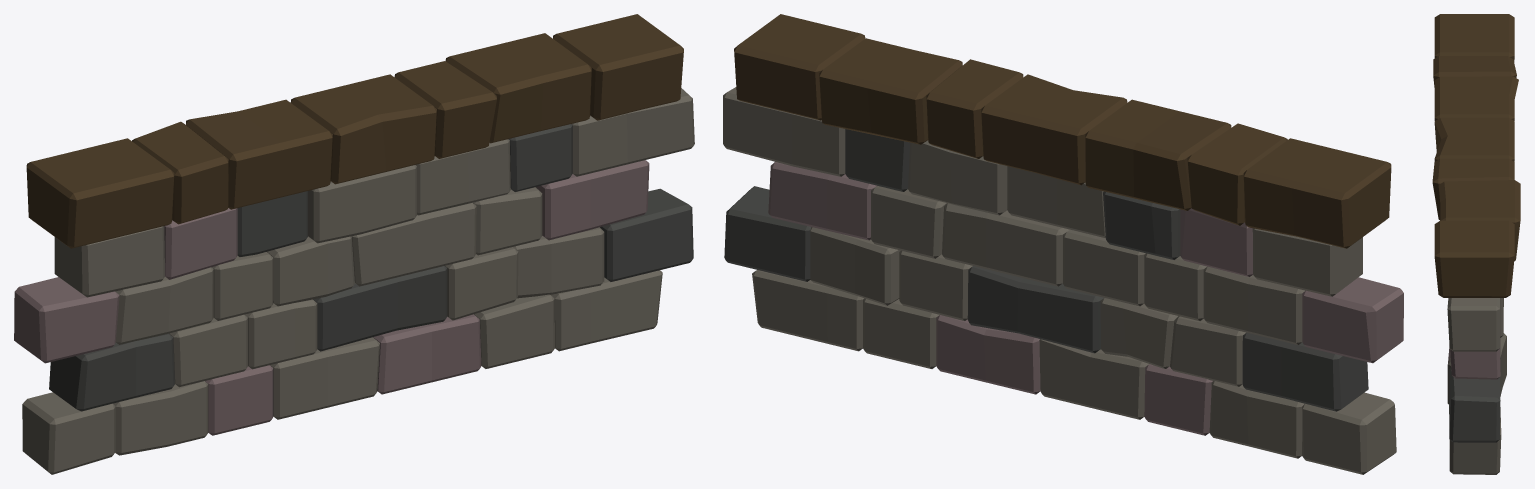
File: BrickWall.fbx
3 renders of one model, left to right at view 1: azimuth 30°, elevation 25°; view 2: azimuth 150°, elevation 25°; view 3: azimuth 270°, elevation 25°, orthographic. The views are drawn at different scales.
Visible parts, largest first — view 1: Cube.030, Cube.028, Cube.032, Cube.033, Cube.034, Cube.009, Cube.019, Cube.023, Cube.007, Cube.020, Cube.002, Cube.014 (+23 smaller); view 2: Cube.030, Cube.028, Cube.033, Cube.032, Cube.034, Cube.009, Cube.023, Cube.019, Cube.007, Cube.020, Cube.014, Cube.002 (+23 smaller); view 3: Cube.034, Cube.033, Cube.028, Cube.030, Cube.032, Cube.013, Cube.020, Cube.031, Cube.014, Cube.029, Cube.027, Cube.011 (+1 smaller).
Boxes of the visible parts, bbox=[...] form: Cube.030: bbox=[26, 138, 174, 248]; Cube.028: bbox=[186, 99, 332, 209]; Cube.032: bbox=[290, 74, 436, 184]; Cube.033: bbox=[445, 33, 591, 143]; Cube.034: bbox=[553, 14, 683, 120]; Cube.009: bbox=[313, 266, 447, 351]; Cube.019: bbox=[14, 277, 119, 363]; Cube.023: bbox=[351, 202, 476, 286]; Cube.007: bbox=[49, 333, 174, 411]; Cube.020: bbox=[571, 88, 694, 176]; Cube.002: bbox=[270, 337, 379, 419]; Cube.014: bbox=[551, 270, 662, 351]; Cube.030: bbox=[1243, 138, 1391, 248]; Cube.028: bbox=[1085, 99, 1231, 210]; Cube.033: bbox=[819, 38, 962, 144]; Cube.032: bbox=[981, 74, 1127, 185]; Cube.034: bbox=[734, 14, 865, 120]; Cube.009: bbox=[967, 266, 1103, 353]; Cube.023: bbox=[942, 203, 1069, 286]; Cube.019: bbox=[1302, 277, 1403, 363]; Cube.007: bbox=[1242, 332, 1368, 411]; Cube.020: bbox=[723, 87, 845, 176]; Cube.014: bbox=[752, 270, 864, 351]; Cube.002: bbox=[1039, 339, 1149, 419]; Cube.034: bbox=[1434, 220, 1514, 297]; Cube.033: bbox=[1438, 180, 1520, 260]; Cube.028: bbox=[1434, 76, 1518, 120]; Cube.030: bbox=[1434, 14, 1514, 62]; Cube.032: bbox=[1434, 117, 1514, 161]; Cube.013: bbox=[1449, 367, 1500, 442]; Cube.020: bbox=[1447, 298, 1499, 351]; Cube.031: bbox=[1432, 158, 1514, 220]; Cube.014: bbox=[1449, 407, 1501, 474]; Cube.029: bbox=[1433, 56, 1516, 87]; Cube.027: bbox=[1450, 329, 1500, 379]; Cube.011: bbox=[1447, 333, 1506, 404].
Bounding box in the file's own units: 1905 × 799 × 275.
